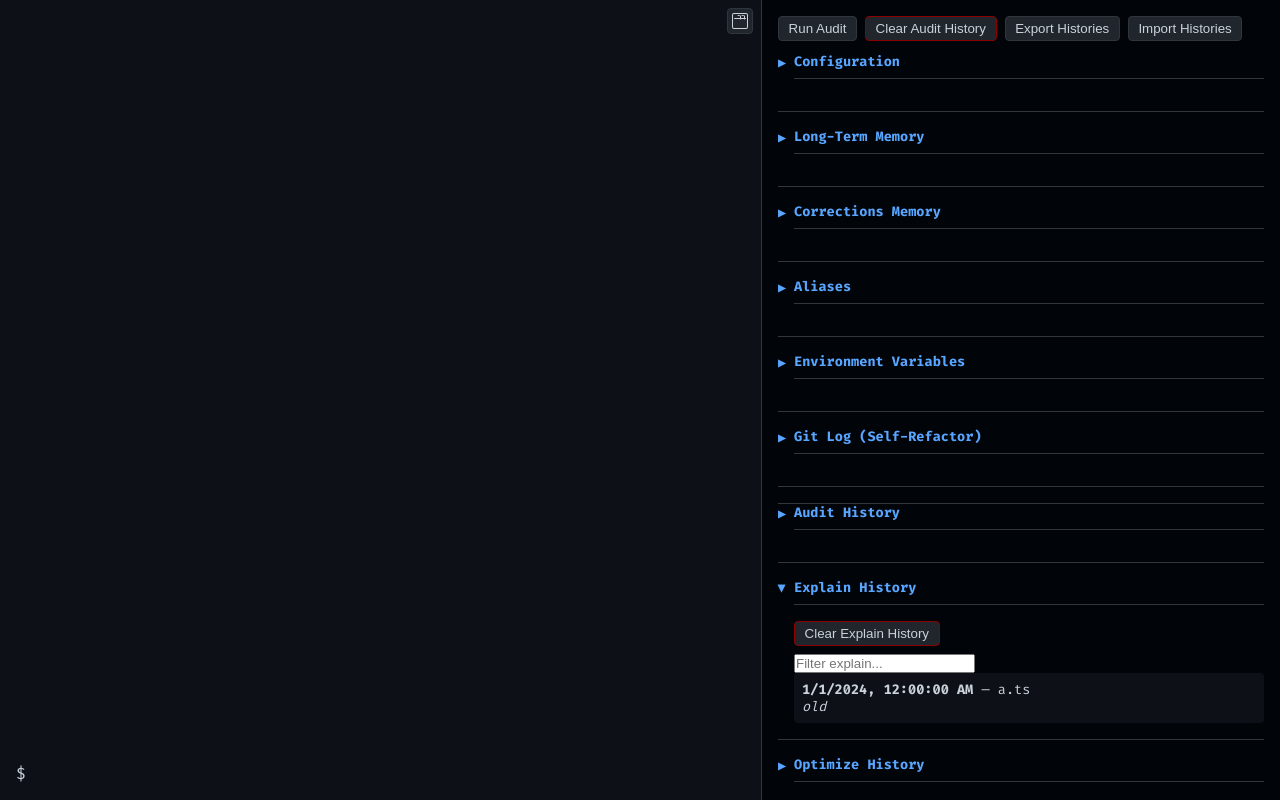
Scenario: Clear Explain History › clears after confirmation and updates UI
Expected: the text "old" is shown, [802,698,826,715]
Click the button "Clear Explain History": click(867, 634) [794,621,940,646]
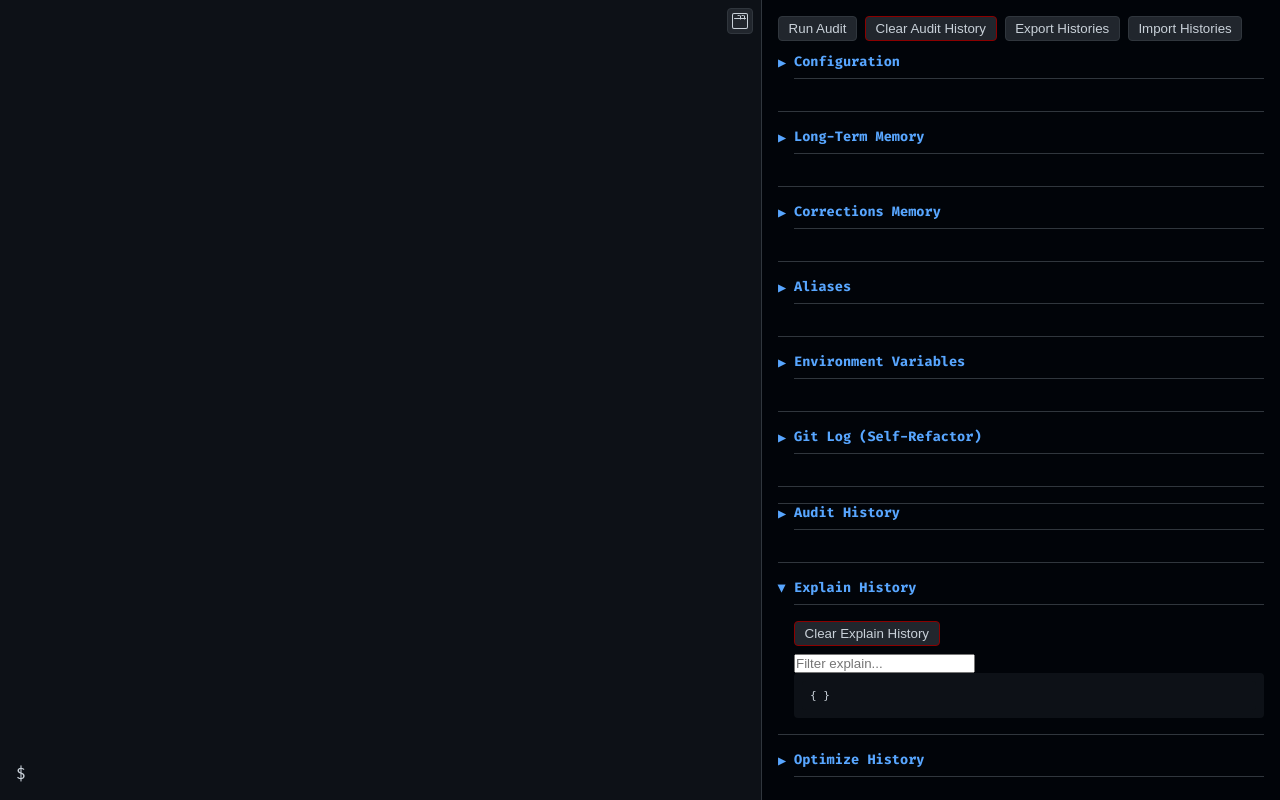
Expected: the text "old" is gone
